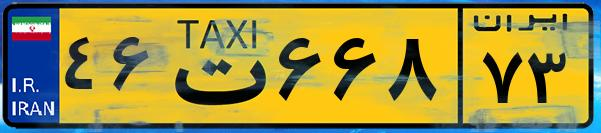3: (525, 38, 570, 115)
4: (57, 26, 110, 100)
6: (270, 28, 330, 110), (330, 28, 385, 110), (110, 28, 158, 98)
7: (475, 38, 525, 113)
8: (385, 28, 445, 110)
ت: (158, 12, 270, 120)
